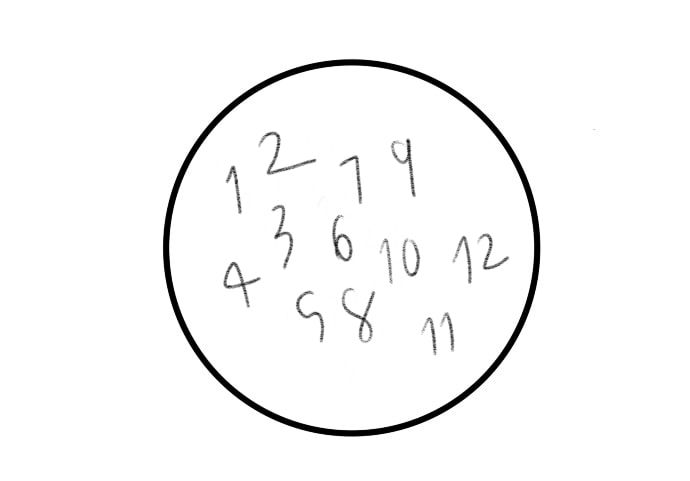eight: (342, 284, 376, 345)
eleven: (418, 308, 456, 356)
five: (293, 285, 326, 342)
four: (219, 253, 263, 308)
nine: (391, 133, 418, 198)
one: (221, 161, 248, 215)
seven: (341, 150, 367, 205)
six: (331, 211, 355, 263)
ten: (377, 231, 422, 285)
three: (271, 198, 295, 271)
twelve: (453, 232, 510, 284)
two: (256, 126, 317, 176)
